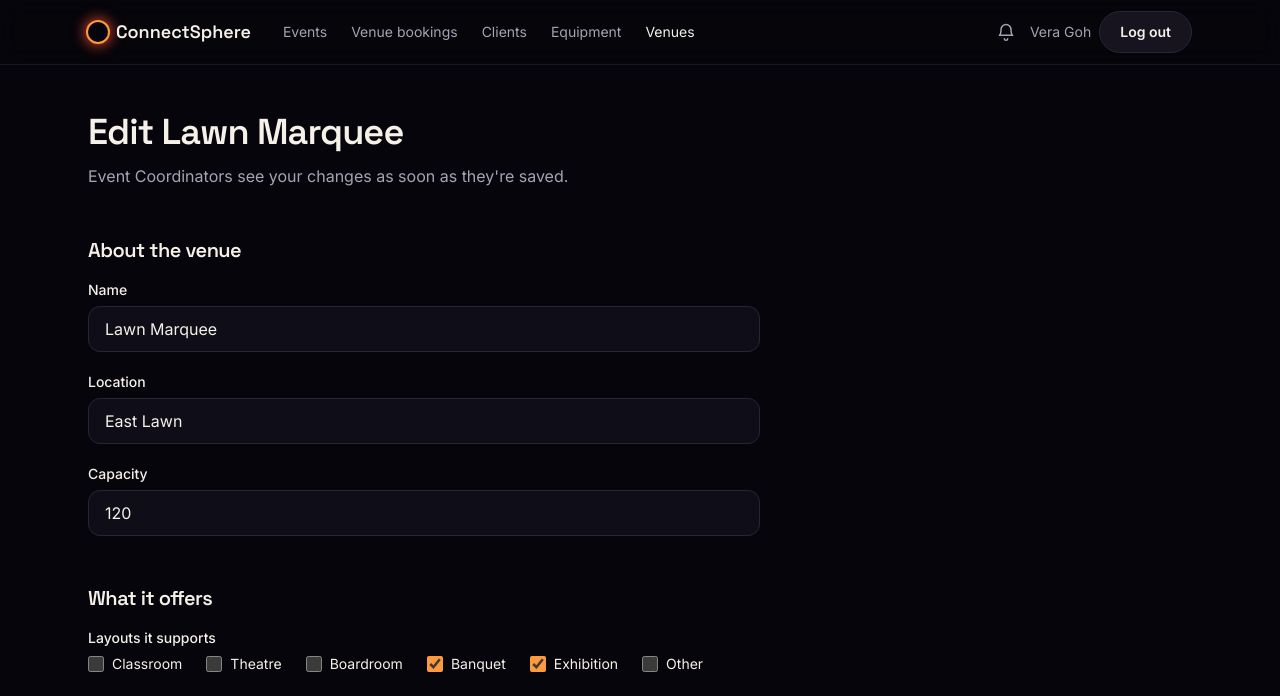
Scenario: SCRUM-25 editing a venue › refuses an emptied name and capacity with the backend messages (AC2)
This screenshot has width=1280, height=696.
Clear the field labelled "Name" at (424, 329), box [88, 306, 760, 352]
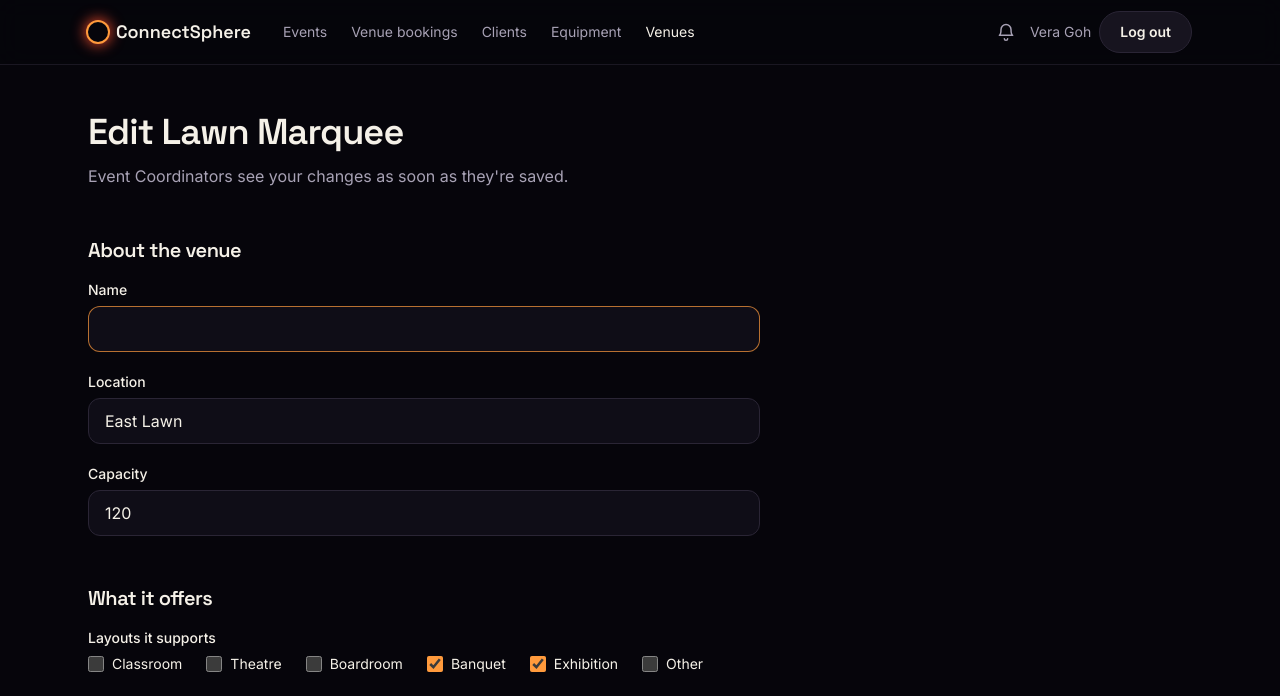
Clear the number field labelled "Capacity" at (424, 513), box [88, 490, 760, 536]
(page scrolled)
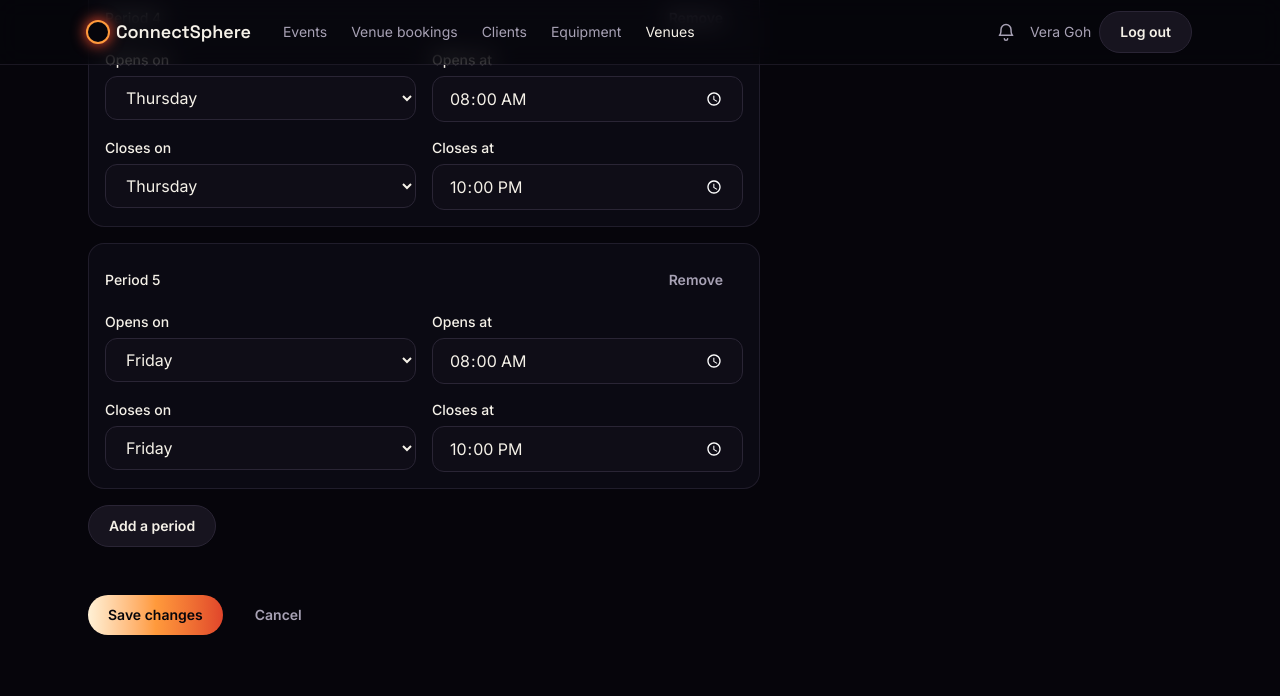
Click the button "Save changes" at (155, 615), box [88, 595, 223, 635]
(page scrolled)
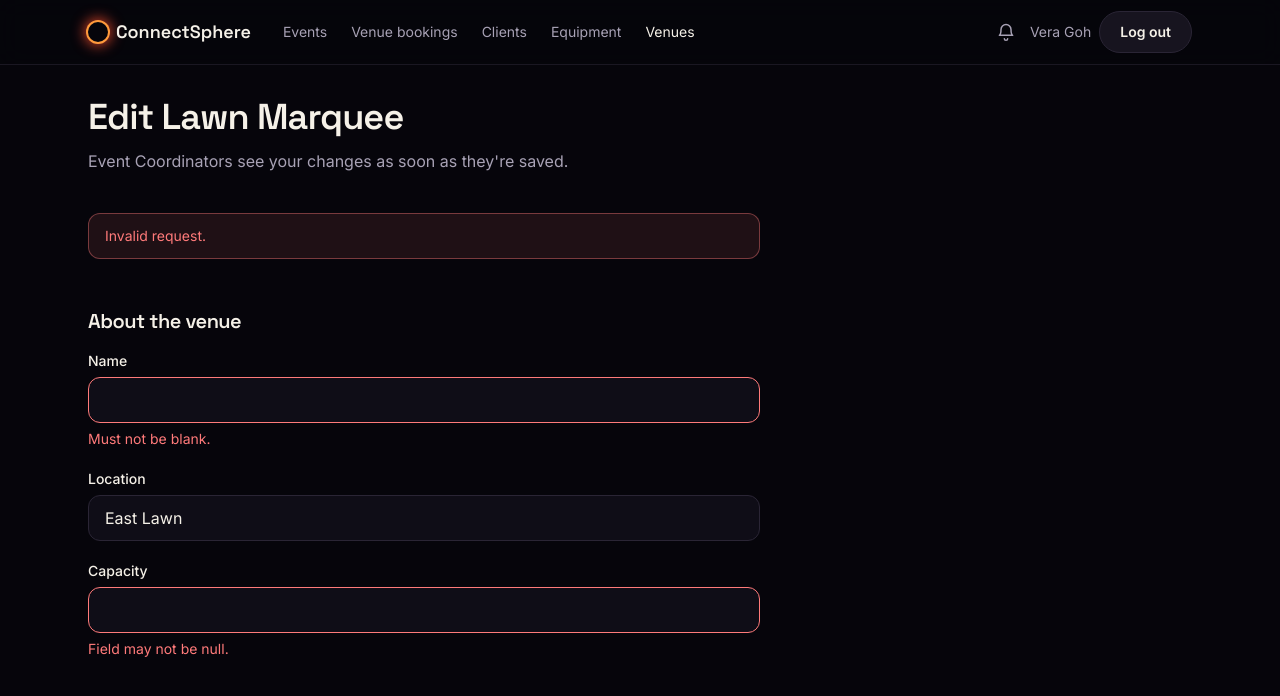
Expected: the list item "Field may not be null." is shown, [88, 640, 229, 657]
